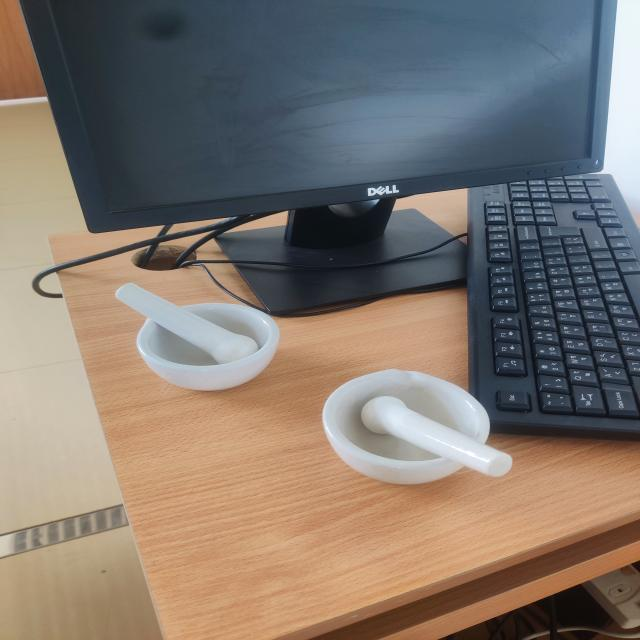Porcelain_Mortar Pestle: (308, 322, 531, 519), (86, 255, 290, 400)
